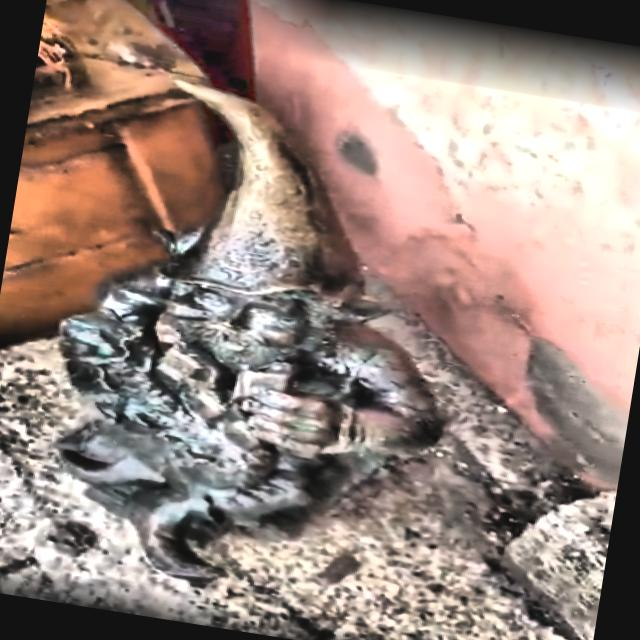Wedelek: (60, 81, 444, 578)
